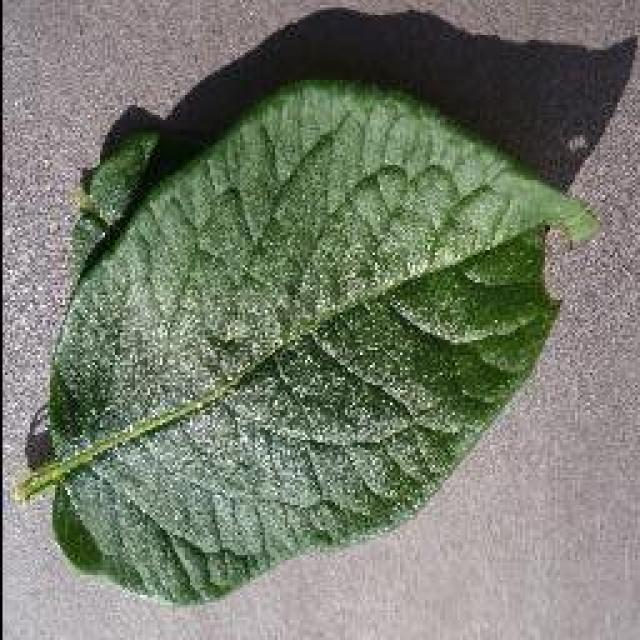Potato___healthy: (13, 79, 604, 610)
